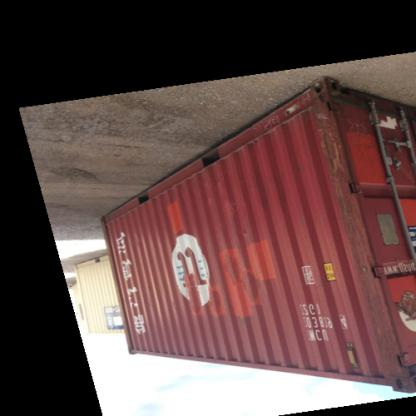Damage: (360, 282, 402, 390), (326, 181, 370, 280), (312, 100, 348, 183), (372, 99, 404, 139), (351, 102, 370, 156)
